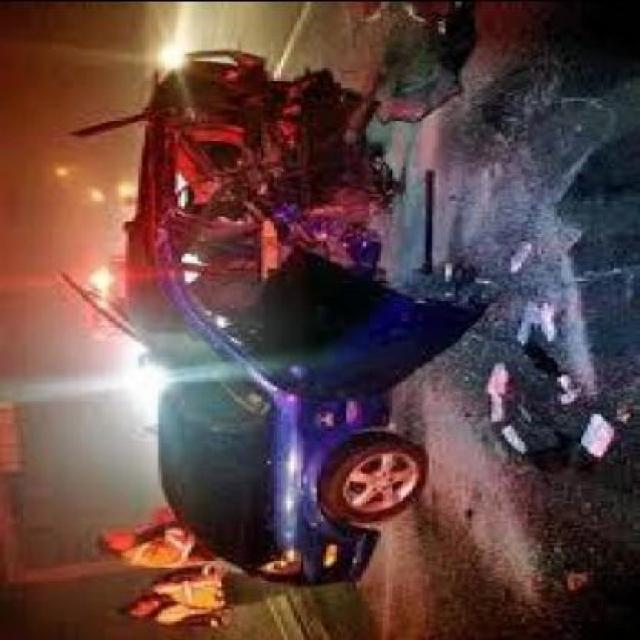damage: (144, 49, 491, 405)
